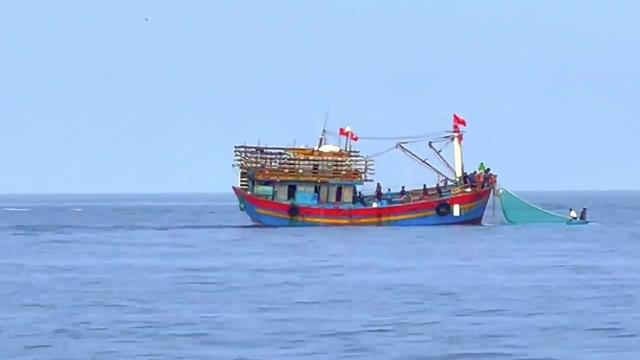Ship: (230, 121, 505, 236)
